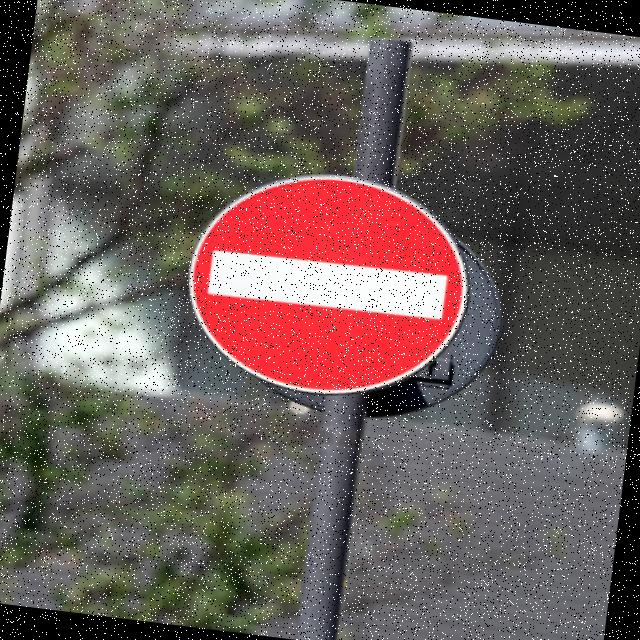do_not_enter: (172, 154, 472, 417)
